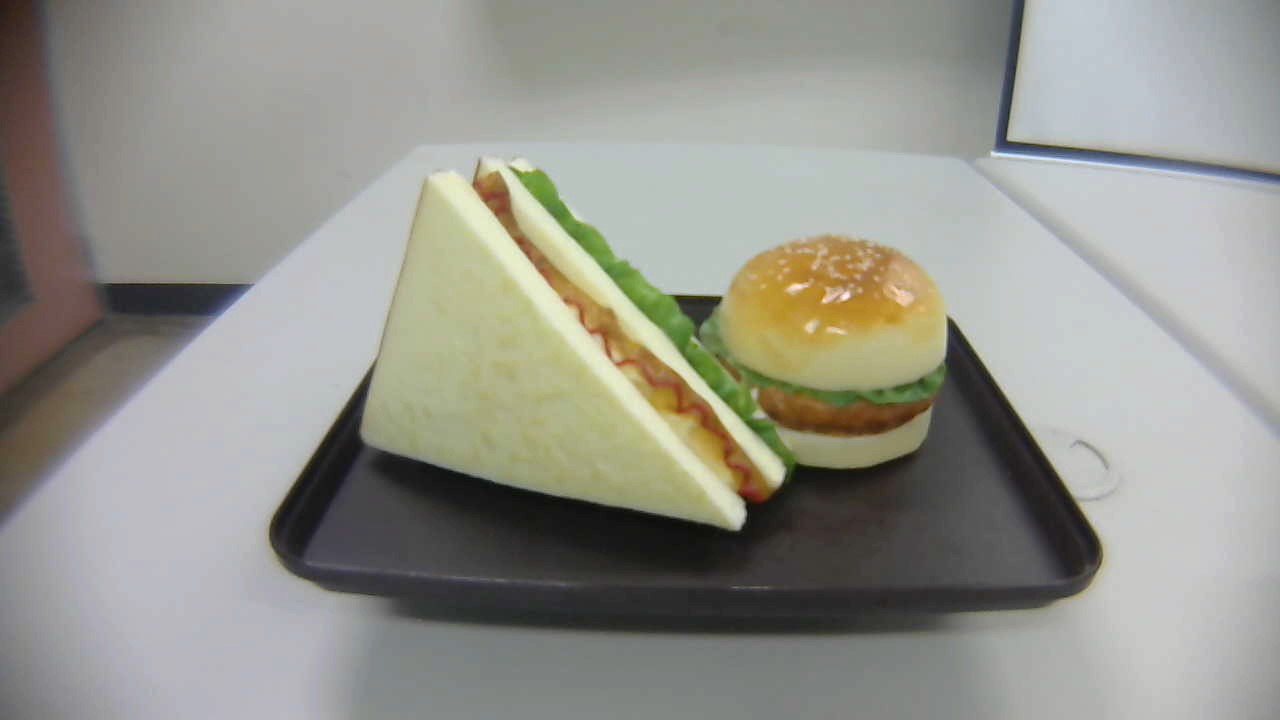hamburger: (698, 229, 948, 473)
sandwich: (356, 152, 796, 533)
